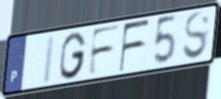5: (151, 12, 181, 68)
F: (86, 23, 122, 78), (118, 17, 151, 74)
G: (58, 31, 88, 81)
I: (40, 33, 57, 87)
S: (181, 10, 212, 62)
